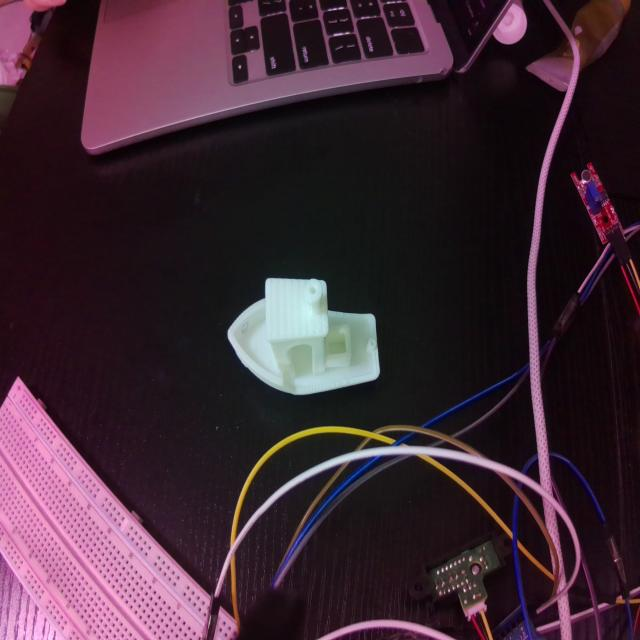ship: (227, 274, 381, 397)
